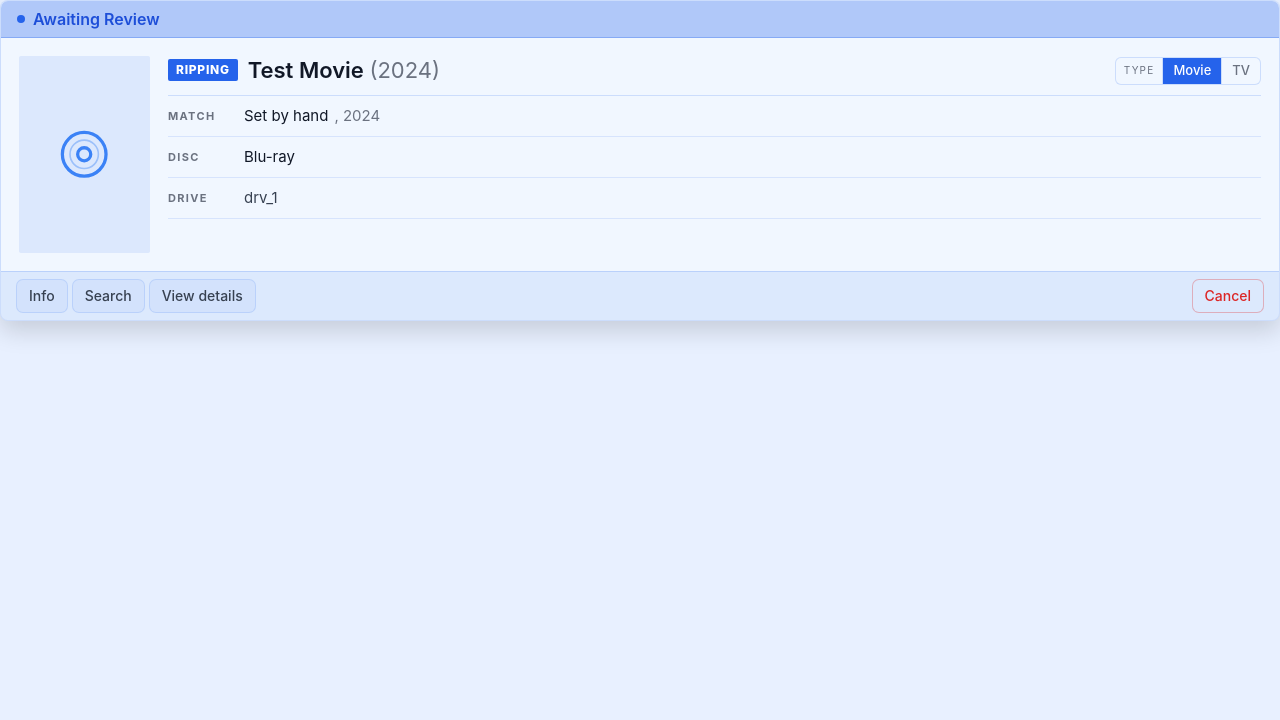
Test: DiscReviewWidget › tracks › renders the v3 tracks table from data.tracks
The tracks table now lives at the bottom of the Info tab — open it first.
Click the button "Info". click: (42, 296)
box: [17,280,67,312]
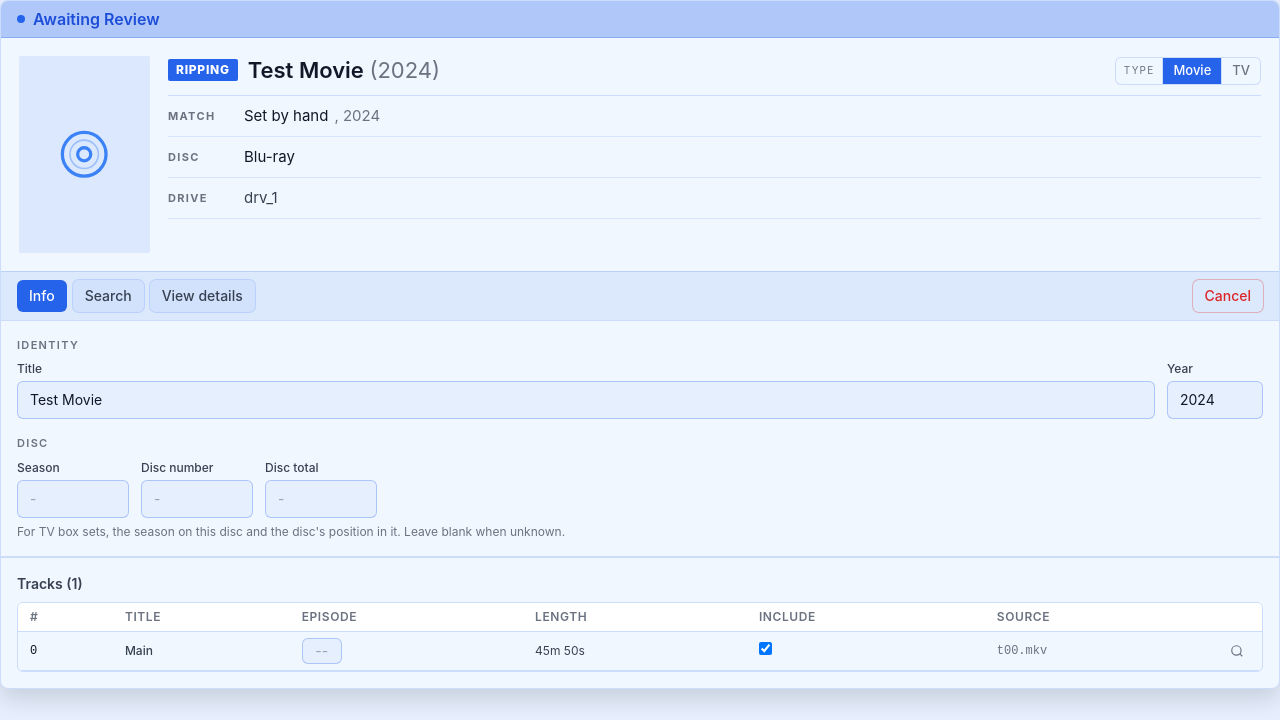
expect the text "Main" is shown: met, box [125,642,153,658]
expect the text "t00.mkv" is shown: met, box [985,631,1212,670]
